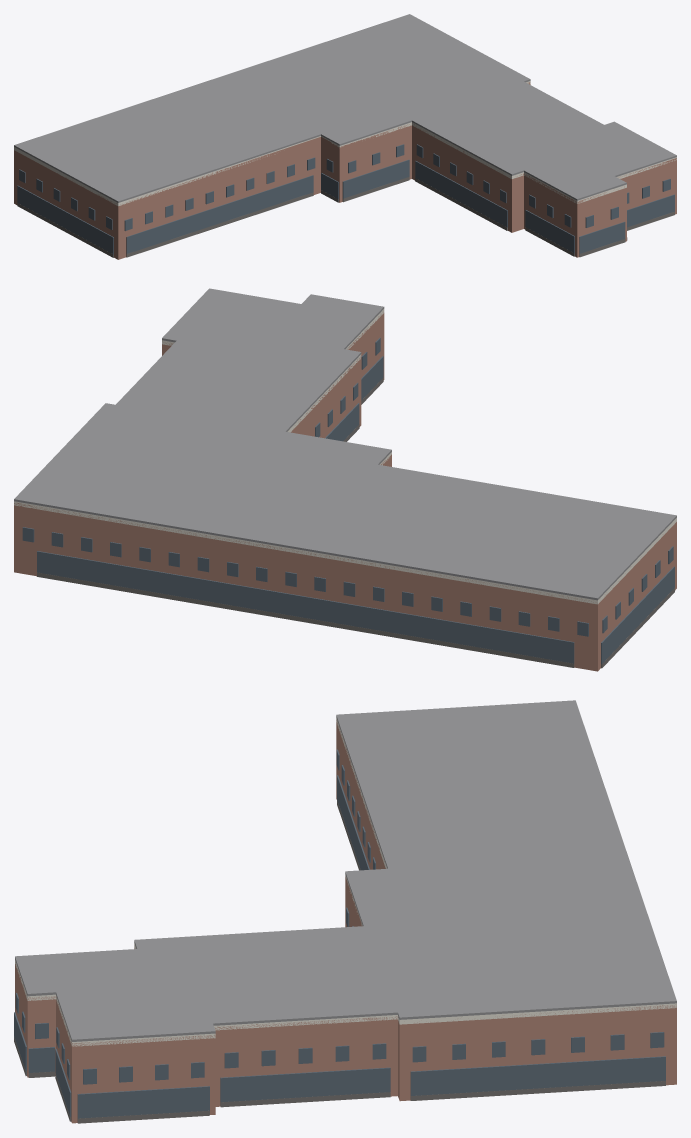
Rendered from s26_gis_247819_820504.glb.
The picture shows the model from 3 angles, top to bottom: view 1: azimuth 30°, elevation 25°; view 2: azimuth 150°, elevation 25°; view 3: azimuth 270°, elevation 25°; orthographic projection. The views are drawn at different scales.
Visible parts, largest first — view 1: roofcap, mass, store_3, cornice, store_2, store_6, store_5, store_8, store_11, store_9, bulk_3, bulk_2 (+1 smaller); view 2: roofcap, mass, store_1, cornice, bulk_1, store_2, store_6; view 3: roofcap, mass, store_0, store_14, cornice, store_12, bulk_0, bulk_14, store_3, bulk_12, store_10.
Part boxes in pixels (left/top/right/bottom): roofcap: left=14, top=14, right=676, bottom=202; mass: left=14, top=82, right=676, bottom=259; store_3: left=126, top=175, right=313, bottom=253; cornice: left=14, top=81, right=676, bottom=206; store_2: left=17, top=185, right=113, bottom=254; store_6: left=415, top=161, right=507, bottom=227; store_5: left=342, top=159, right=409, bottom=200; store_8: left=525, top=210, right=574, bottom=253; store_11: left=627, top=194, right=674, bottom=227; store_9: left=579, top=221, right=625, bottom=255; bulk_3: left=126, top=192, right=313, bottom=257; bulk_2: left=17, top=203, right=113, bottom=257; roofcap: left=14, top=288, right=676, bottom=600; mass: left=14, top=312, right=676, bottom=671; store_1: left=37, top=551, right=574, bottom=663; cornice: left=14, top=309, right=676, bottom=604; bulk_1: left=37, top=572, right=574, bottom=667; store_2: left=601, top=566, right=674, bottom=663; store_6: left=325, top=403, right=359, bottom=441; roofcap: left=15, top=700, right=676, bottom=1041; mass: left=15, top=720, right=676, bottom=1123; store_0: left=410, top=1056, right=665, bottom=1098; store_14: left=220, top=1067, right=390, bottom=1102; cornice: left=15, top=718, right=676, bottom=1046; store_12: left=77, top=1086, right=209, bottom=1120; bulk_0: left=410, top=1081, right=665, bottom=1100; bulk_14: left=220, top=1092, right=390, bottom=1107; store_3: left=337, top=775, right=369, bottom=870; bulk_12: left=77, top=1110, right=209, bottom=1123; store_10: left=28, top=1047, right=54, bottom=1072.
Size of the model in its own units: 72.78 by 8.35 by 60.02.
